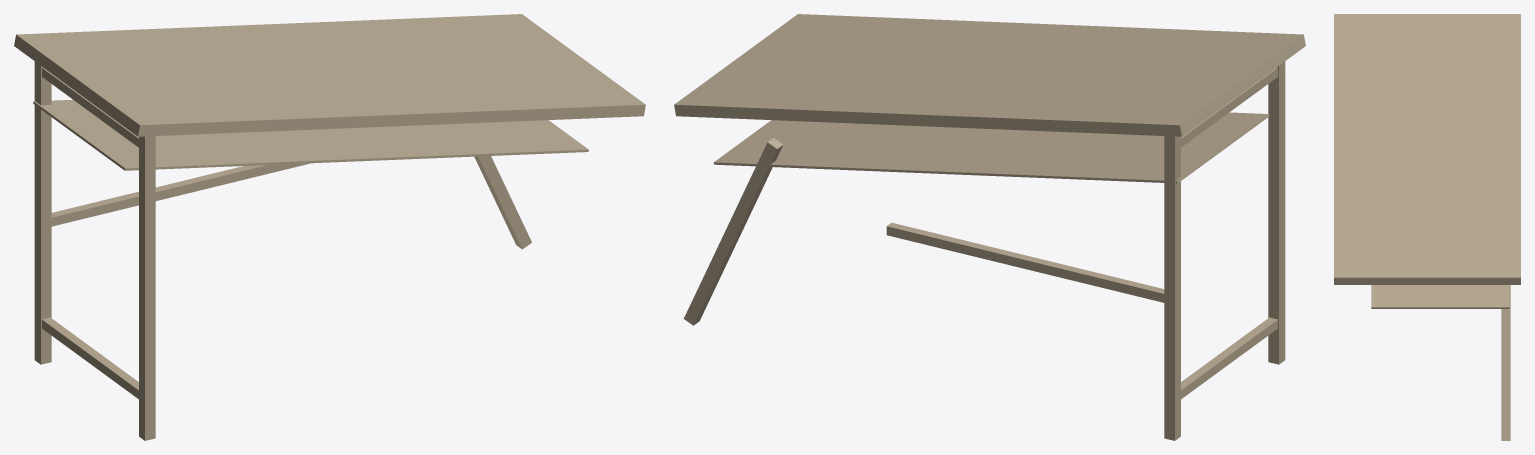
The model's file is desk-broken.glb.
3 renders of one model, left to right at view 1: azimuth 30°, elevation 25°; view 2: azimuth 150°, elevation 25°; view 3: azimuth 270°, elevation 25°, orthographic. The views are drawn at different scales.
Visible parts, largest first — view 1: desk-broken; view 2: desk-broken; view 3: desk-broken.
Part boxes in pixels (bbox=[...]): desk-broken: bbox=[14, 14, 645, 440]; desk-broken: bbox=[674, 14, 1305, 440]; desk-broken: bbox=[1334, 14, 1520, 440].
Size of the model in its own units: 1.18 by 0.7251 by 0.5.
